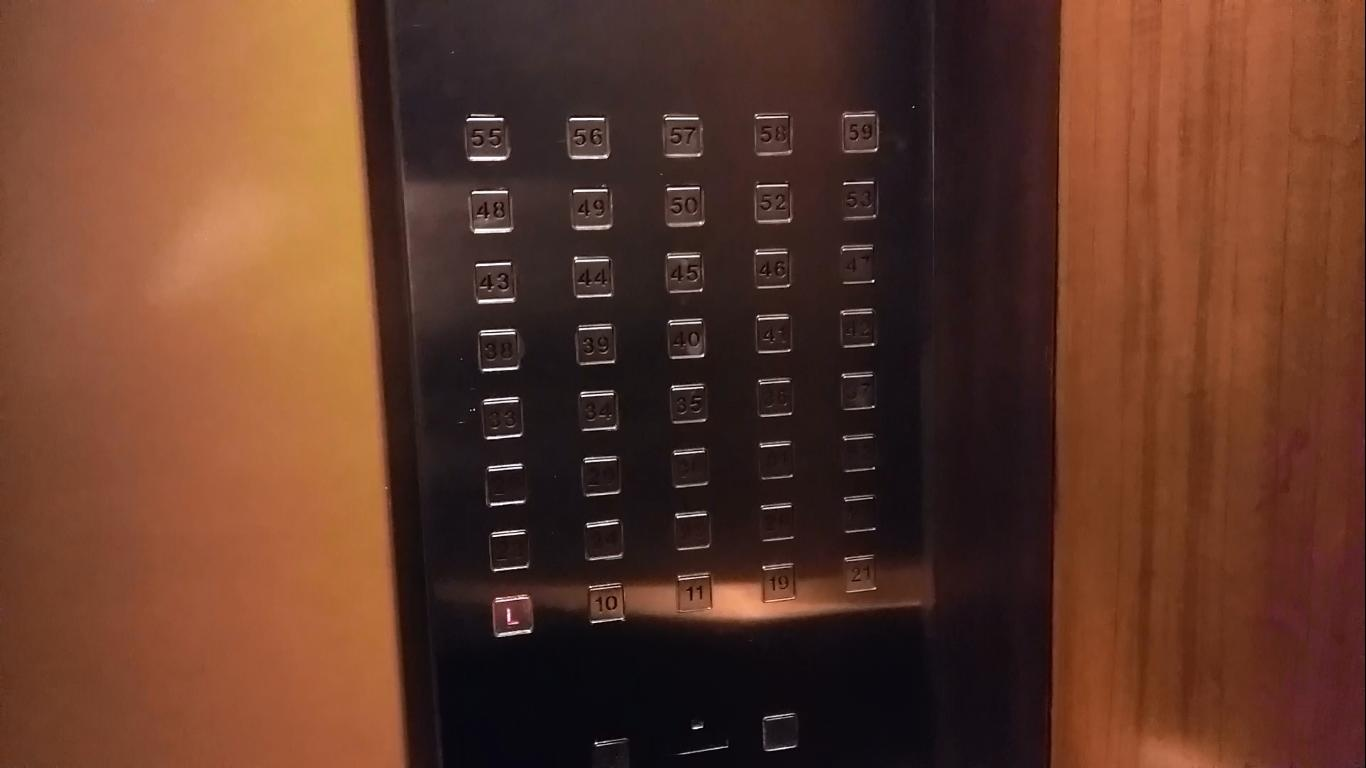10: (585, 580, 628, 627)
11: (674, 569, 715, 615)
19: (759, 560, 798, 606)
21: (841, 552, 880, 595)
33: (479, 394, 526, 443)
34: (576, 387, 621, 435)
35: (667, 381, 710, 427)
36: (754, 374, 795, 422)
37: (838, 368, 878, 414)
38: (474, 325, 523, 375)
39: (572, 320, 619, 369)
40: (664, 315, 709, 363)
41: (752, 311, 795, 357)
42: (837, 305, 879, 351)
43: (471, 257, 520, 307)
44: (569, 252, 616, 301)
45: (662, 247, 707, 296)
46: (750, 243, 794, 292)
47: (837, 240, 879, 288)
48: (464, 185, 517, 237)
49: (566, 181, 617, 234)
50: (660, 180, 709, 230)
52: (751, 179, 796, 227)
53: (838, 177, 883, 224)
55: (460, 109, 514, 164)
56: (563, 111, 614, 163)
57: (657, 109, 708, 161)
58: (749, 108, 796, 160)
59: (838, 107, 883, 157)
L: (489, 591, 537, 641)
blur: (482, 460, 529, 510), (578, 452, 624, 501), (581, 516, 627, 564), (487, 526, 532, 575), (668, 444, 712, 492), (671, 507, 714, 554), (754, 437, 796, 483), (838, 430, 880, 476), (756, 499, 797, 546), (841, 492, 879, 536)
empty: (756, 708, 803, 757)
